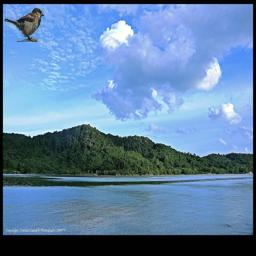Sparrow: (4, 8, 44, 42)
